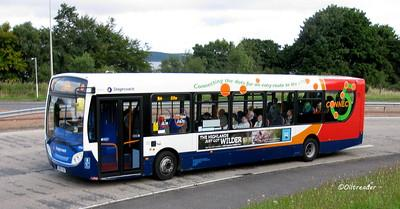bus: (41, 71, 375, 182)
